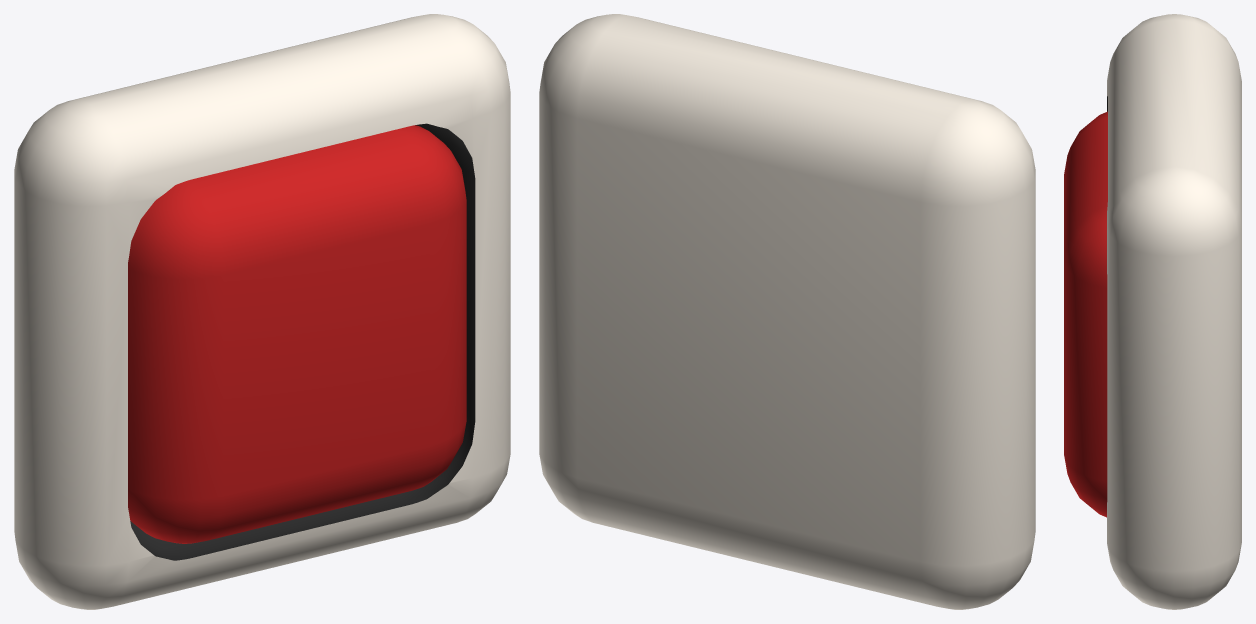
File: SwitchL.fbx
The picture shows the model from 3 angles, left to right: view 1: azimuth 30°, elevation 25°; view 2: azimuth 150°, elevation 25°; view 3: azimuth 270°, elevation 25°; orthographic projection. The views are drawn at different scales.
Parts seen in each view (by area): view 1: Switch_1; view 2: Switch_1; view 3: Switch_1.
Part boxes in pixels (x1=…): Switch_1: x1=14, y1=14, x2=510, y2=609; Switch_1: x1=539, y1=14, x2=1035, y2=609; Switch_1: x1=1064, y1=14, x2=1241, y2=609.
Size of the model in its own units: 4.34 by 4.34 by 1.6.
